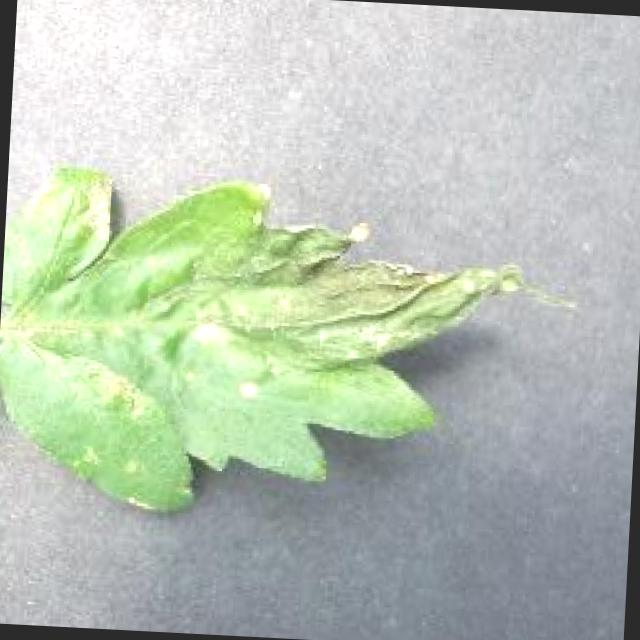leaf blight: (0, 170, 527, 514)
